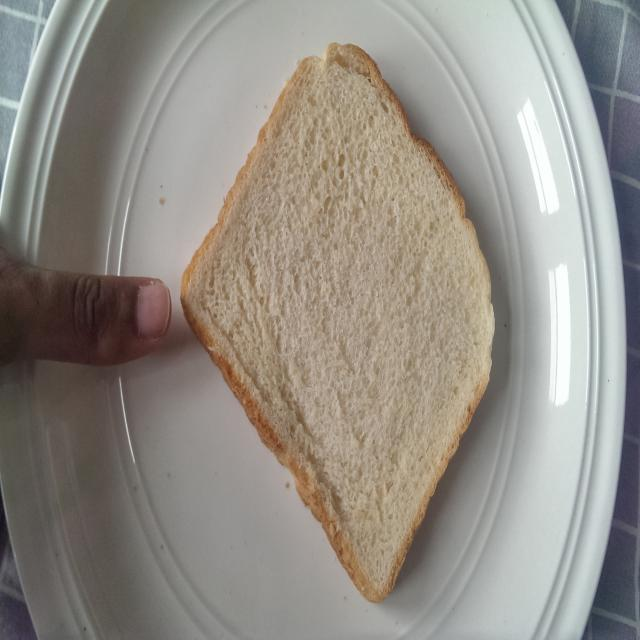bread: (180, 22, 507, 601)
